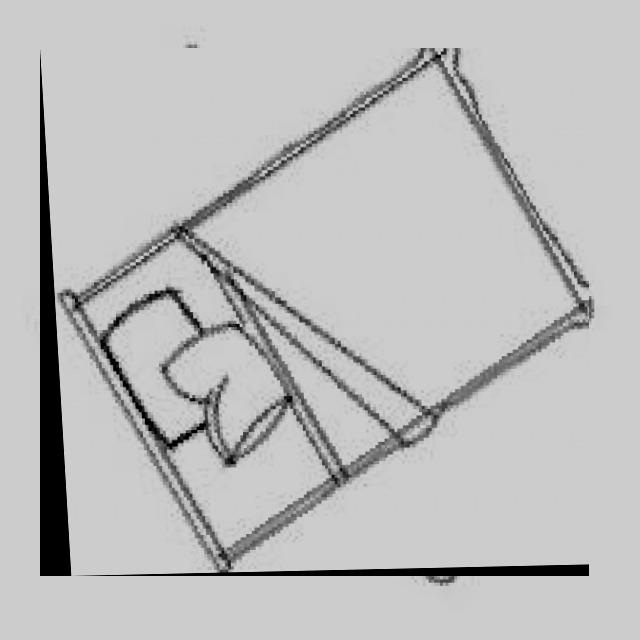bed: (40, 48, 589, 576)
